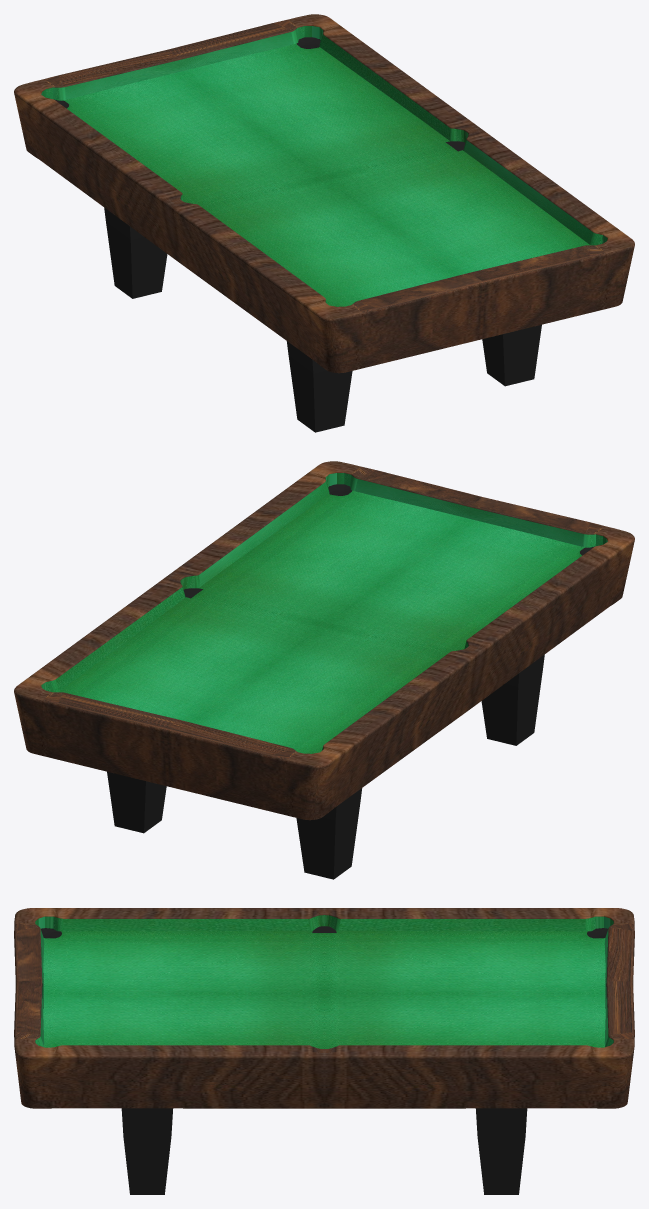
Rendered from klartbord.glb.
3 renders of one model, top to bottom at view 1: azimuth 30°, elevation 25°; view 2: azimuth 150°, elevation 25°; view 3: azimuth 270°, elevation 25°, orthographic. The views are drawn at different scales.
Visible parts, largest first — view 1: Cube.004; view 2: Cube.004; view 3: Cube.004.
Part boxes in pixels (bbox=[...]): Cube.004: bbox=[14, 14, 634, 432]; Cube.004: bbox=[14, 461, 634, 879]; Cube.004: bbox=[14, 908, 634, 1194].
Size of the model in its own units: 1.26 by 0.6417 by 2.23.
3 materials, 2 textured.
